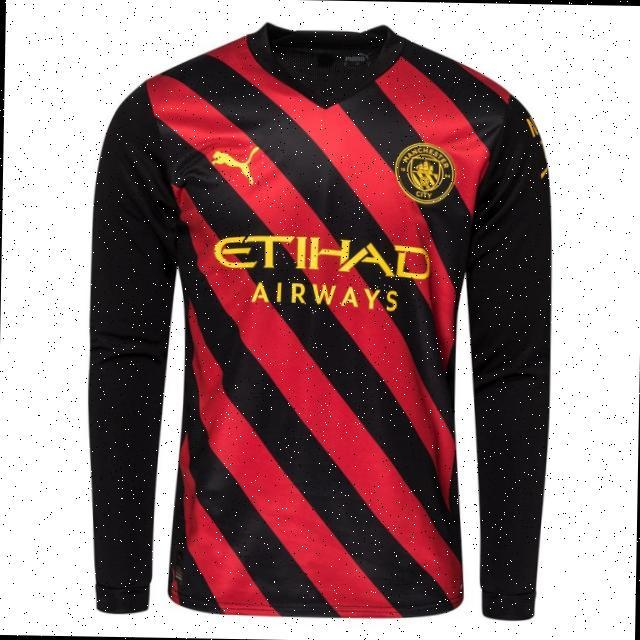Etihad Airways: (213, 231, 433, 315)
Puma: (210, 143, 264, 186)
